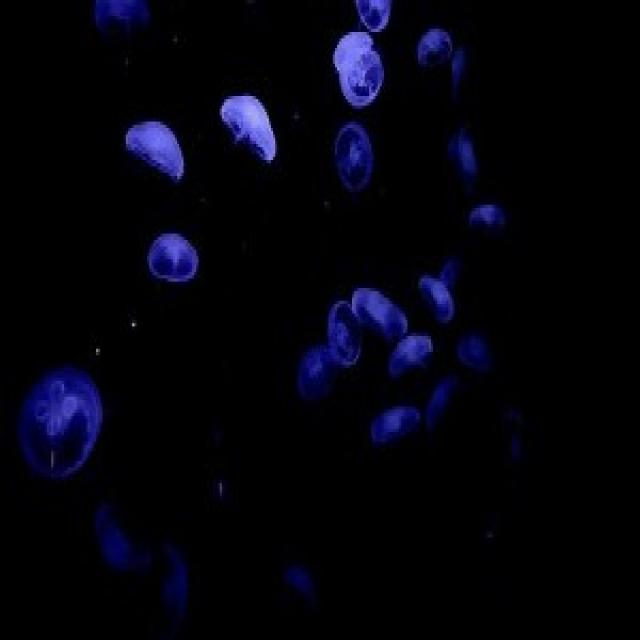Jellyfish: (17, 363, 115, 489), (220, 94, 282, 164), (119, 123, 187, 184), (144, 227, 212, 288), (331, 31, 385, 107), (332, 124, 381, 196), (349, 283, 406, 343), (319, 297, 360, 373), (420, 251, 462, 312), (441, 126, 479, 191), (390, 334, 437, 382), (443, 331, 497, 372), (461, 206, 507, 236), (351, 0, 398, 27)
